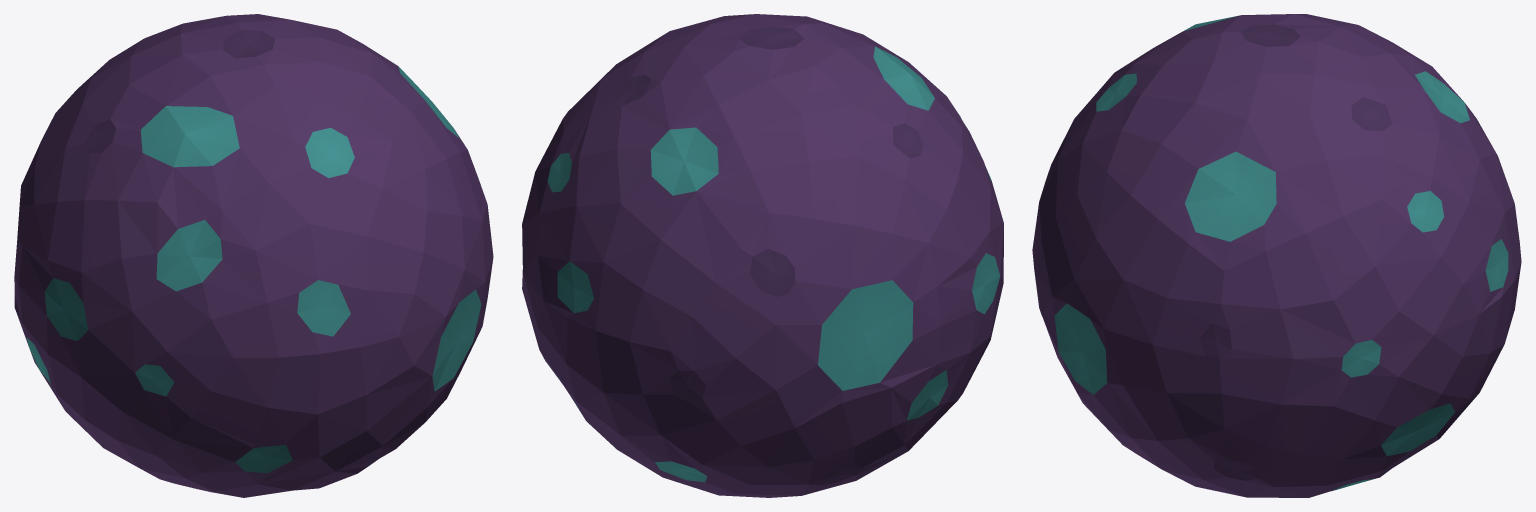
File: neptune.glb
3 renders of one model, left to right at view 1: azimuth 30°, elevation 25°; view 2: azimuth 150°, elevation 25°; view 3: azimuth 270°, elevation 25°, orthographic.
Parts seen in each view (by area): view 1: huitugou_2145_07; view 2: huitugou_2145_07; view 3: huitugou_2145_07.
Boxes of the visible parts, x1,y1,x2,y2 form: huitugou_2145_07: [14, 14, 493, 497]; huitugou_2145_07: [522, 14, 1003, 497]; huitugou_2145_07: [1032, 14, 1521, 497].
Size of the model in its own units: 1.11 by 1.1 by 1.12.
1 material, 1 textured.
